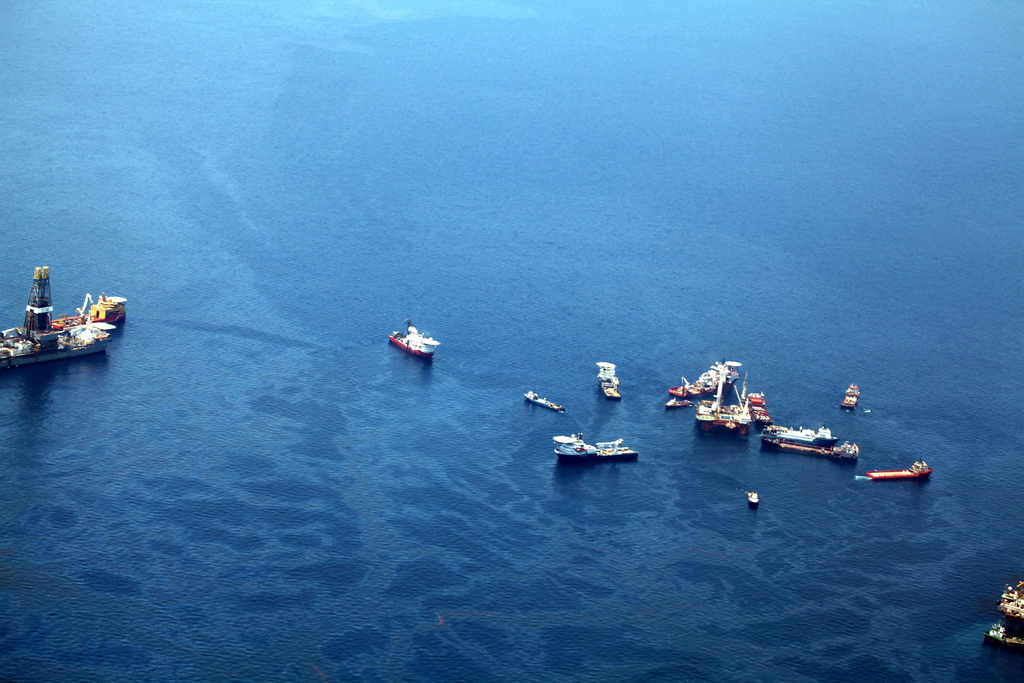boat: (1, 318, 121, 379), (546, 428, 661, 481), (367, 304, 456, 369), (44, 279, 140, 339), (692, 372, 754, 448), (870, 450, 948, 503), (667, 354, 747, 399), (762, 440, 870, 469), (586, 345, 629, 409), (518, 377, 571, 420), (762, 423, 843, 446), (993, 569, 1024, 628), (746, 382, 782, 430), (981, 621, 1024, 655), (656, 394, 704, 419), (740, 477, 771, 515), (835, 376, 863, 417)
